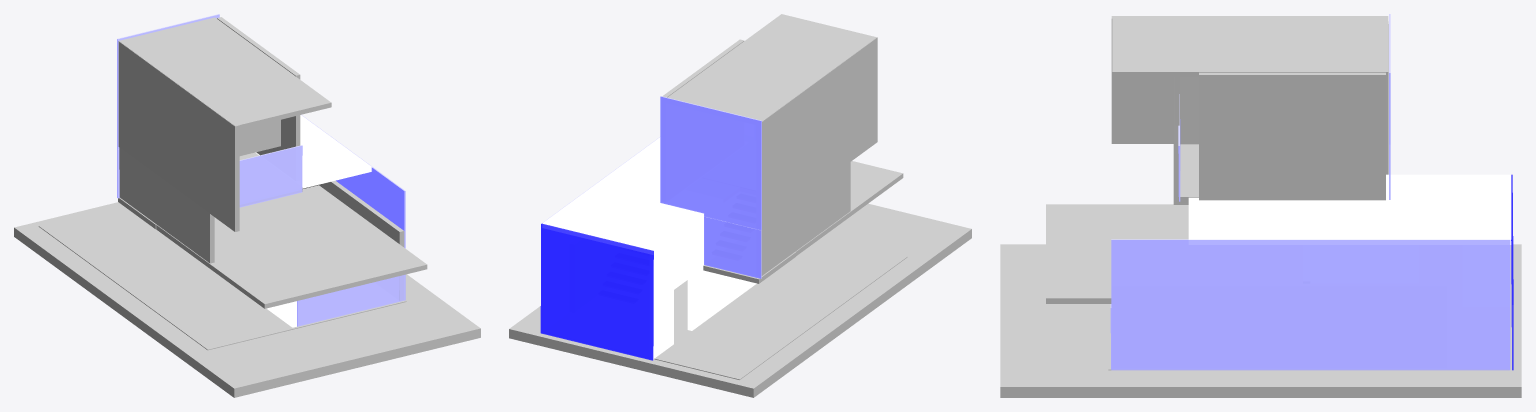
Rendered from 1 mvdr.glb.
3 views of the same model, side by side, from view 1: azimuth 30°, elevation 25°; view 2: azimuth 150°, elevation 25°; view 3: azimuth 270°, elevation 25° (orthographic). The views are drawn at different scales.
Visible parts, largest first — view 1: Cube.006, Cube.005, Piso planta baja, Cube.011, Cube.004, Cube.003, Cube.002, Cube.012, Cube, Cube.009, Muro 1 planta Baja 1-A, Cube.001 (+3 smaller); view 2: Piso planta baja, Cube.006, Cube.007, Cube.011, Cube.010, Cube.004, Cube, Muro 1 planta Baja 1-A.001, Cube.003, Cube.014, Cube.005, Cube.015 (+1 smaller); view 3: Cube.009, Cube.006, Cube.001, Cube, Cube.004, Cube.005, Cube.011, Cube.003, Cube.008, Cube.007.
Part boxes in pixels (x1,y1,x2,y2): Cube.006: (14, 202, 480, 397); Cube.005: (156, 185, 427, 308); Piso planta baja: (38, 205, 406, 350); Cube.011: (118, 41, 239, 231); Cube.004: (119, 17, 331, 129); Cube.003: (119, 147, 214, 263); Cube.002: (239, 145, 302, 207); Cube.012: (297, 275, 405, 326); Cube: (255, 115, 371, 188); Cube.009: (301, 114, 405, 299); Muro 1 planta Baja 1-A: (303, 180, 404, 247); Cube.001: (217, 17, 300, 155); Piso planta baja: (654, 236, 907, 379); Cube.006: (509, 203, 971, 397); Cube.007: (540, 223, 653, 360); Cube.011: (762, 37, 877, 226); Cube.010: (660, 96, 761, 230); Cube.004: (668, 14, 876, 121); Cube: (542, 137, 703, 254); Muro 1 planta Baja 1-A.001: (653, 218, 756, 359); Cube.003: (761, 162, 850, 275); Cube.014: (704, 216, 761, 278); Cube.005: (795, 161, 903, 255); Cube.015: (703, 252, 796, 283); Cube.009: (1111, 239, 1510, 370); Cube.006: (1000, 244, 1521, 397); Cube.001: (1199, 72, 1385, 200); Cube: (1188, 174, 1511, 244); Cube.004: (1112, 16, 1388, 77); Cube.005: (1046, 204, 1188, 303); Cube.011: (1111, 16, 1173, 143); Cube.003: (1173, 21, 1388, 204); Cube.008: (1180, 144, 1198, 202); Cube.007: (1511, 174, 1513, 370).
Size of what is drawn, in the model's own units: 11 by 9.67 by 17.
